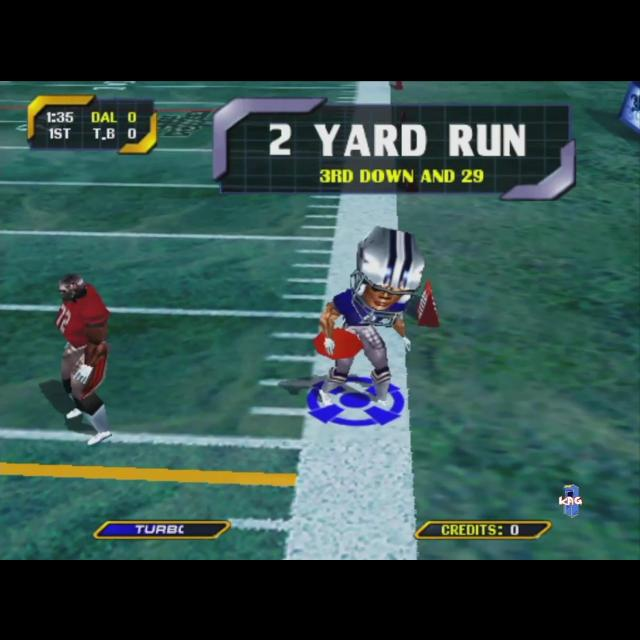player: (313, 224, 427, 404), (54, 271, 114, 445)
